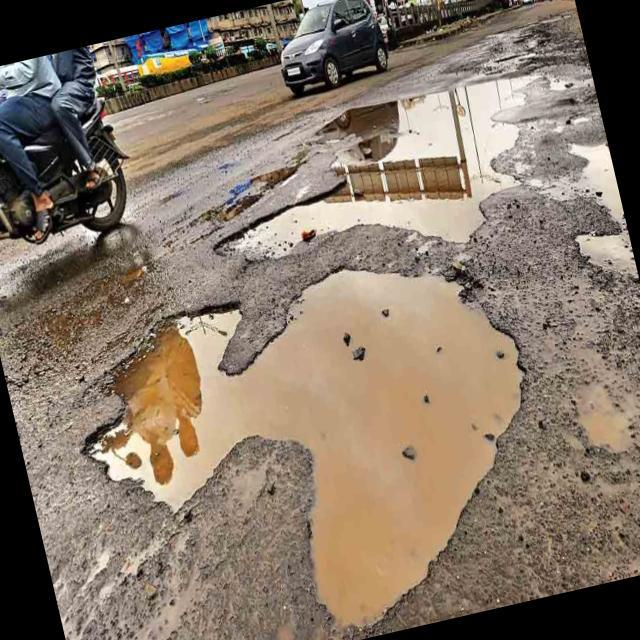Pothole: (125, 273, 512, 640), (327, 76, 518, 253), (568, 132, 640, 294), (228, 194, 348, 272)
